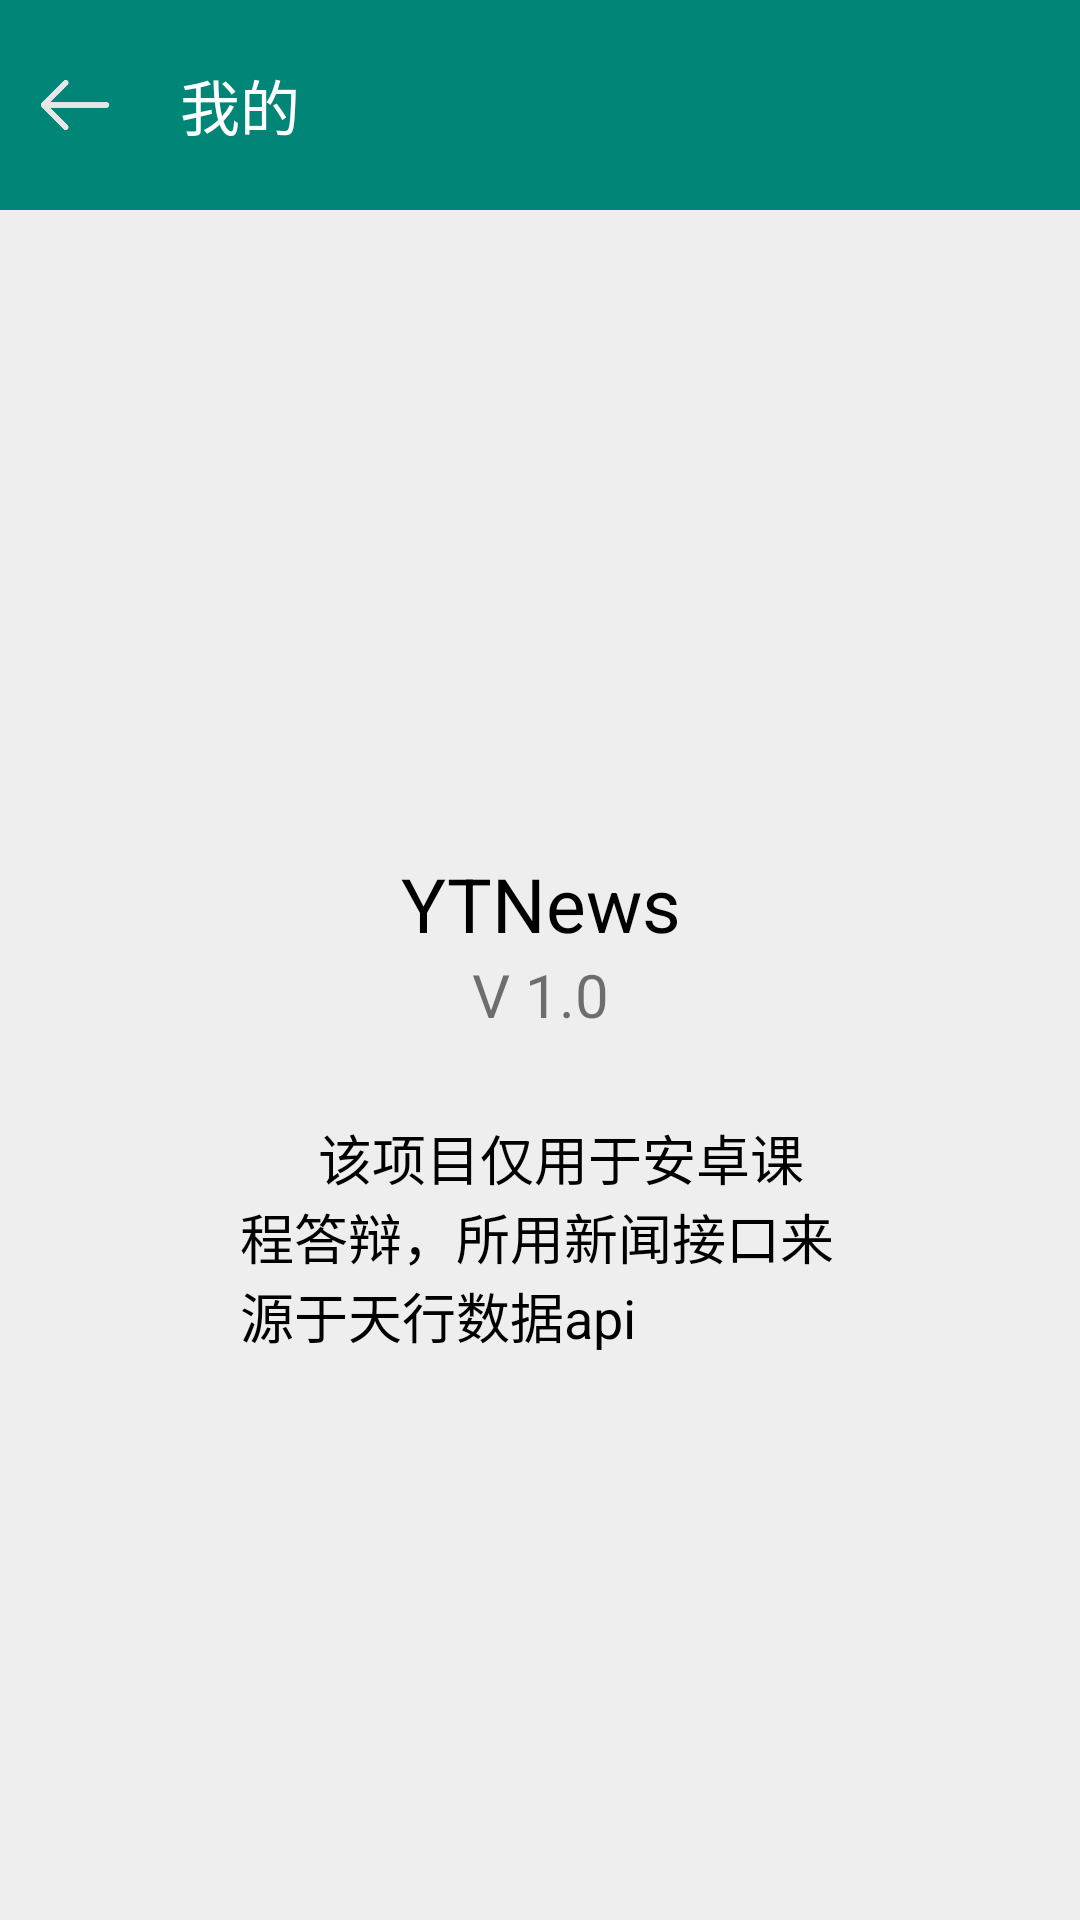

Named icons in this screenshot (1080px×1920px) and their centers, (x,y):
back: (75,105)
